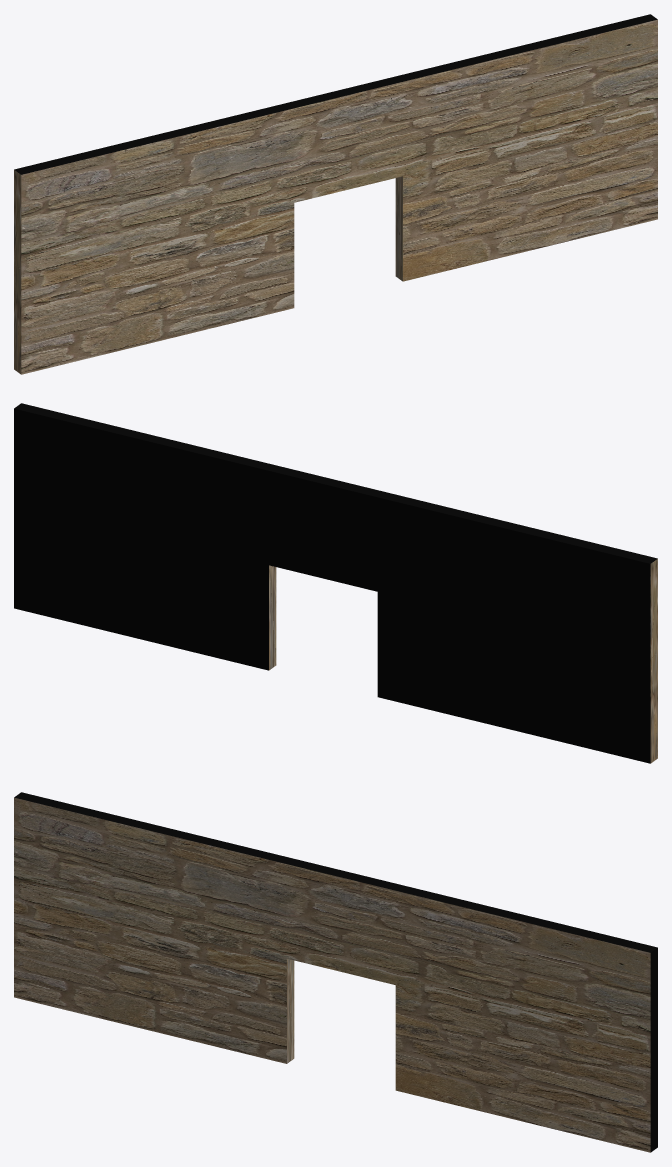
File: front wall mansion.fbx
3 views of the same model, one above another, from view 1: azimuth 30°, elevation 25°; view 2: azimuth 150°, elevation 25°; view 3: azimuth 330°, elevation 25° (orthographic).
Parts seen in each view (by area): view 1: pCube2; view 2: pCube2; view 3: pCube2.
Part boxes in pixels (x1,y1,x2,y2): pCube2: (14,14,657,374); pCube2: (14,403,657,763); pCube2: (14,792,657,1152).
Size of the model in its own units: 50 by 15 by 1.
2 materials, 1 textured.
